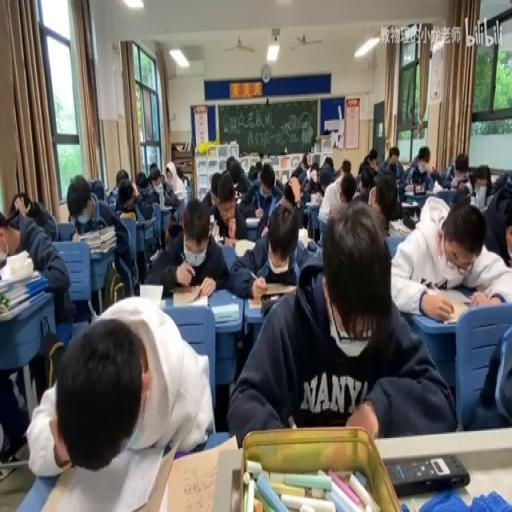calculator: (34, 428, 175, 511), (160, 437, 237, 509), (425, 284, 491, 323), (172, 286, 210, 307), (210, 302, 238, 322), (138, 282, 164, 303), (400, 202, 422, 225), (262, 282, 294, 296), (233, 236, 254, 256), (389, 218, 411, 234), (296, 226, 310, 248), (247, 297, 264, 310), (138, 215, 156, 226), (120, 209, 136, 221), (210, 219, 219, 240), (245, 214, 261, 224), (149, 246, 159, 260), (426, 189, 442, 196), (306, 198, 320, 206)
paper: (228, 202, 450, 442), (0, 191, 71, 455), (144, 190, 226, 294), (66, 173, 131, 303), (461, 317, 510, 430), (119, 174, 157, 260), (209, 170, 249, 244), (242, 164, 282, 238), (482, 178, 511, 263), (318, 165, 358, 225), (38, 330, 64, 390), (28, 196, 58, 242), (442, 149, 474, 192), (405, 145, 434, 192), (378, 145, 404, 192), (148, 164, 174, 204), (353, 164, 376, 204), (278, 178, 302, 212), (302, 164, 324, 200), (108, 168, 130, 203), (10, 192, 34, 219), (0, 223, 19, 256), (163, 200, 182, 230), (89, 176, 105, 205), (452, 185, 470, 205), (474, 168, 490, 189), (118, 196, 132, 214), (429, 166, 441, 185), (134, 171, 148, 186), (466, 171, 476, 192), (174, 166, 184, 184), (301, 152, 310, 171), (225, 155, 235, 171), (366, 150, 377, 164), (322, 155, 332, 169), (341, 158, 350, 173), (254, 161, 262, 175), (182, 175, 189, 188)
person: (384, 452, 468, 496), (261, 294, 283, 318), (412, 182, 426, 193)
